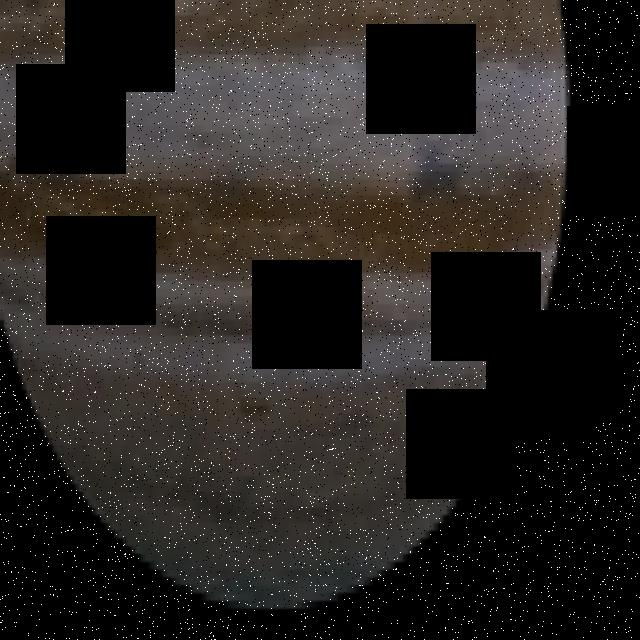Jupiter: (0, 1, 570, 616)
